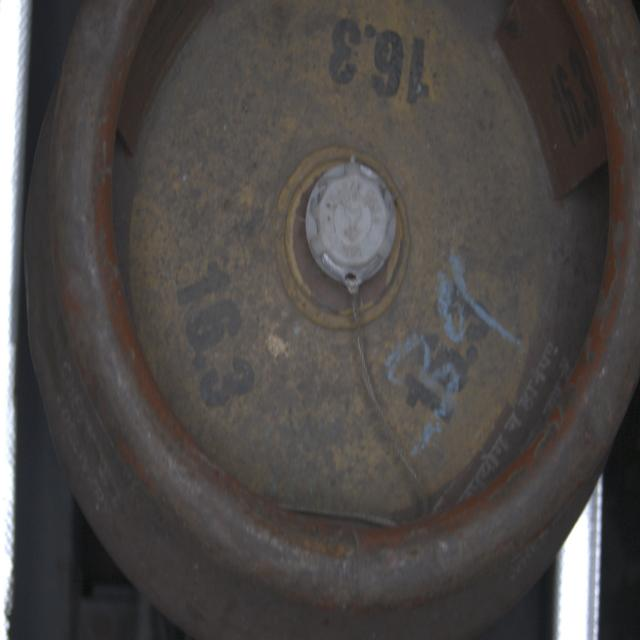Cap: (305, 158, 397, 285)
